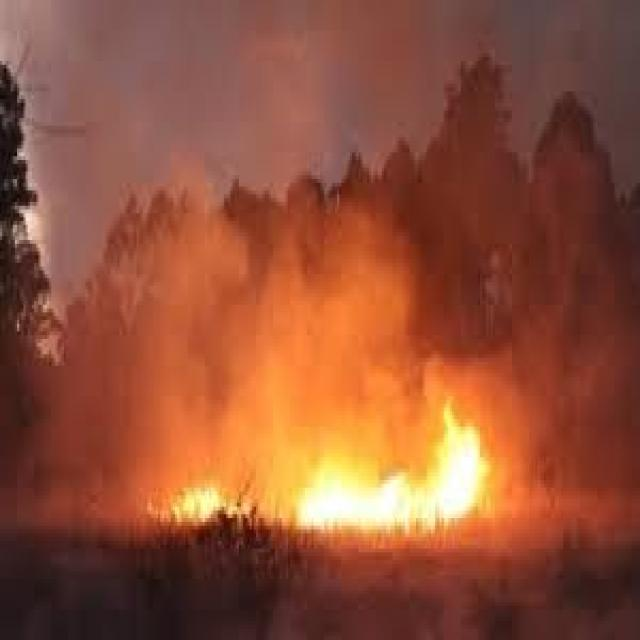Fire: (299, 411, 488, 529), (165, 486, 243, 524)
Smoke: (27, 157, 534, 526)
